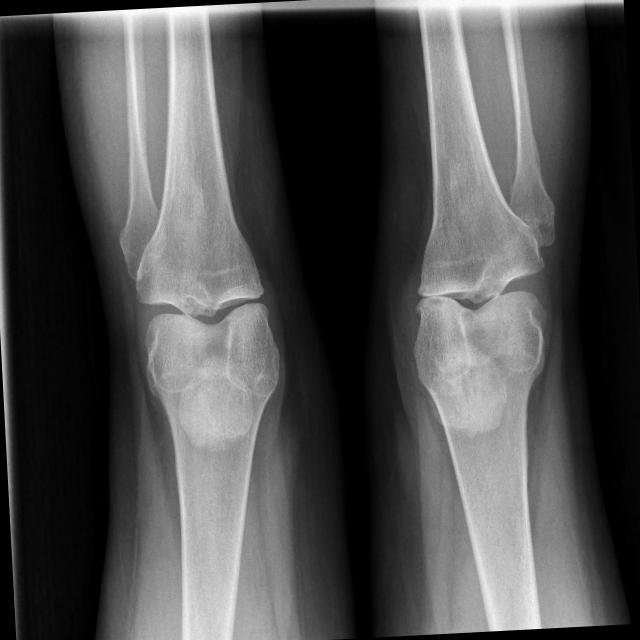Knee: (404, 216, 552, 382), (133, 240, 283, 394)
